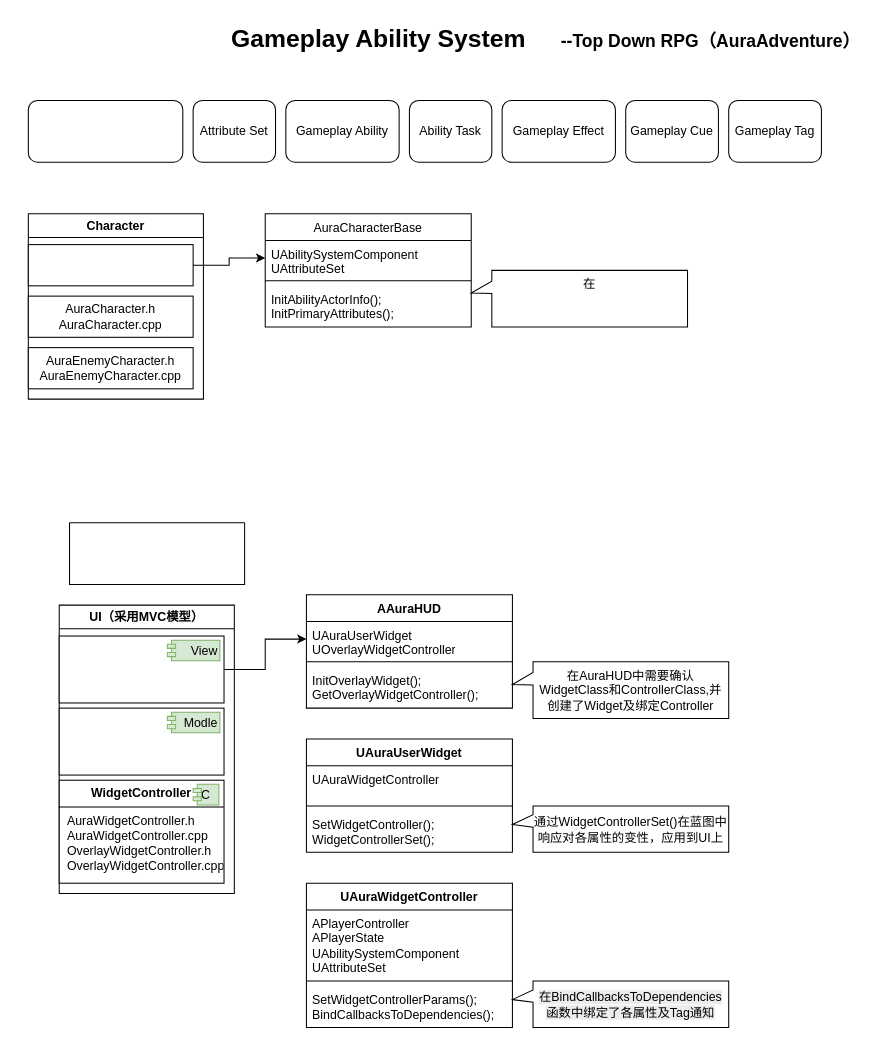
The diagram is 880 pixels wide and 1052 high, and some of its shapes have lost their labels. Each missing label, with the centre of its shape:
AbilitySystemComponent: point (105, 130)
AuraCharacterBase.h AuraCharacterBase.cpp: point (110, 265)
Game: point (156, 553)
HUD AuraHUD.h AuraHUD.cpp: point (141, 669)
Widget AuraUserWidget.h AuraUserWidget.cpp: point (141, 741)
